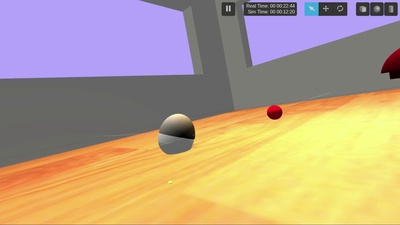mira_robot: (158, 112, 195, 154)
